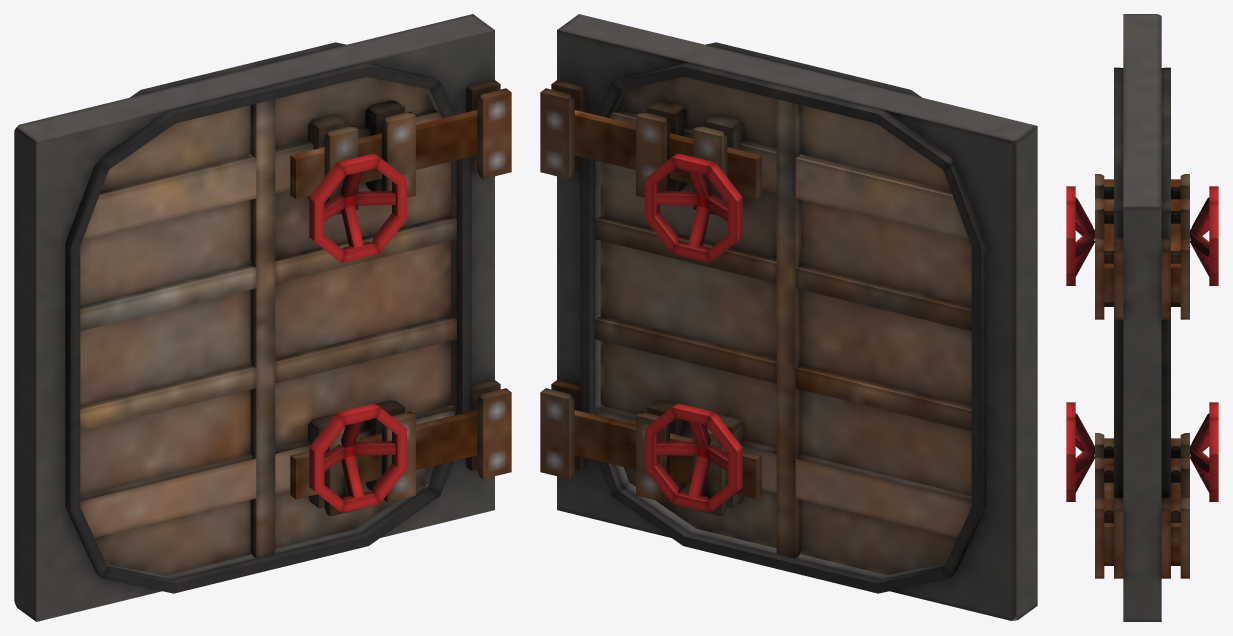
Rendered from water_door.obj.
3 renders of one model, left to right at view 1: azimuth 30°, elevation 25°; view 2: azimuth 150°, elevation 25°; view 3: azimuth 270°, elevation 25°, orthographic. The views are drawn at different scales.
Parts seen in each view (by area): view 1: Door_Cube.003, Frame, Bolts, Top, Bottom; view 2: Door_Cube.003, Frame, Bolts, Bottom, Top; view 3: Frame, Bottom, Top, Bolts, Door_Cube.003.
Part boxes in pixels (bbox=[...]): Door_Cube.003: bbox=[80, 77, 456, 575]; Frame: bbox=[14, 14, 511, 621]; Bolts: bbox=[290, 110, 477, 499]; Top: bbox=[309, 153, 406, 262]; Bottom: bbox=[309, 403, 406, 512]; Door_Cube.003: bbox=[595, 77, 971, 575]; Frame: bbox=[540, 14, 1037, 620]; Bolts: bbox=[574, 110, 761, 499]; Bottom: bbox=[645, 403, 742, 512]; Top: bbox=[645, 153, 742, 262]; Frame: bbox=[1095, 14, 1189, 621]; Bottom: bbox=[1066, 402, 1218, 501]; Top: bbox=[1066, 186, 1218, 285]; Bolts: bbox=[1104, 179, 1180, 561]; Door_Cube.003: bbox=[1095, 174, 1189, 498].
Size of the model in its own units: 3 by 3 by 1.
1 material, 1 textured.
